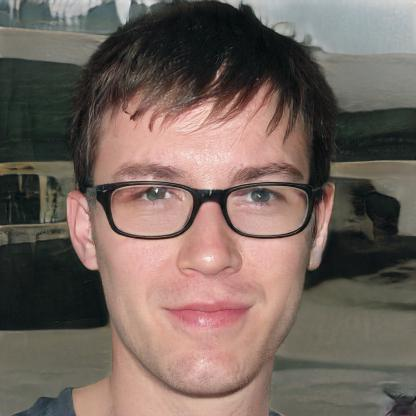glasses: (91, 176, 313, 242)
